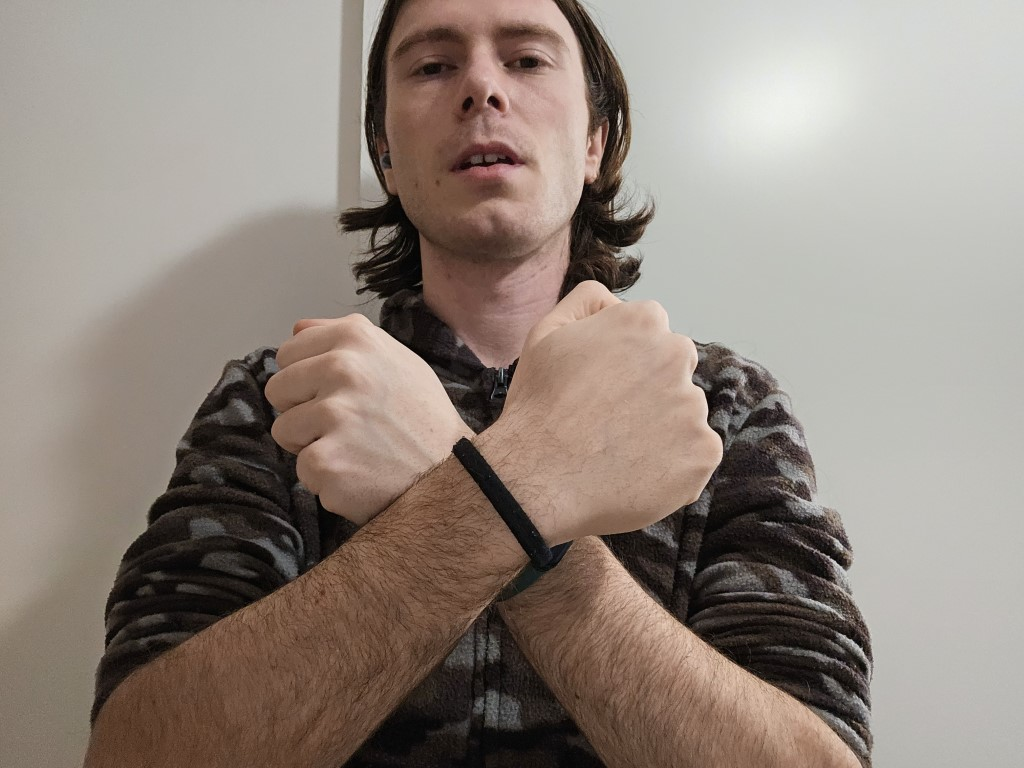del: (220, 267, 760, 607)
